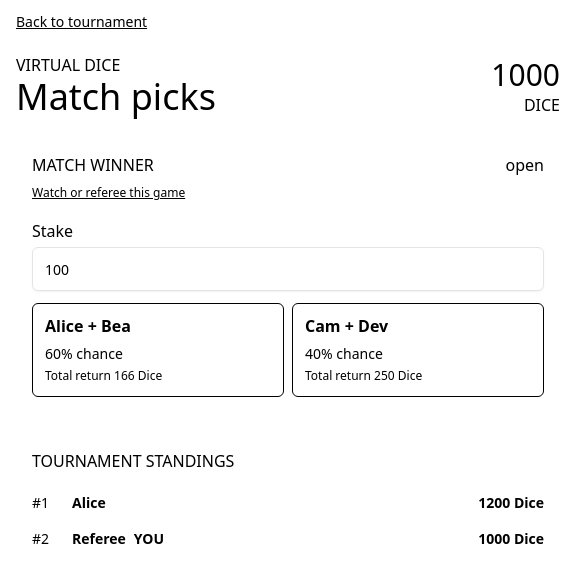
Test: VirtualDice › shows bankroll and locked server odds, then places one clear pick
Expected: the text "1000" is shown, [491,57,560,93]
Expected: the text "60% chance" is shown, [45,344,123,363]
Replace the text in the field labelled "Stake" with "250". click: (288, 269)
box: [32,247,544,291]
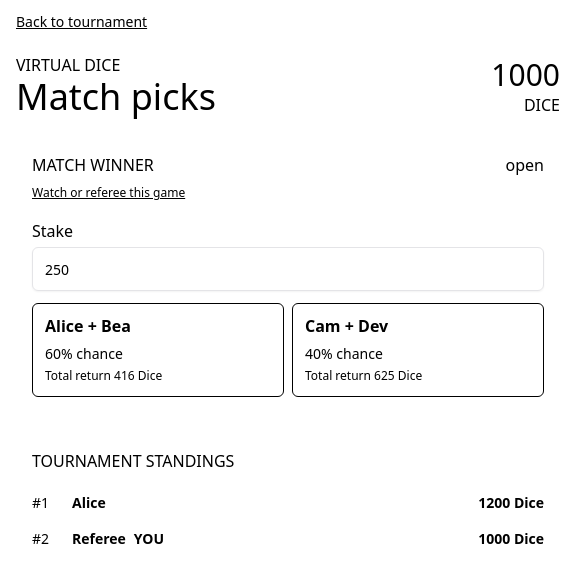
Click the button "Alice + Bea 60% chance Total return 416 Dice". click: (158, 350)
box: [32,303,284,397]
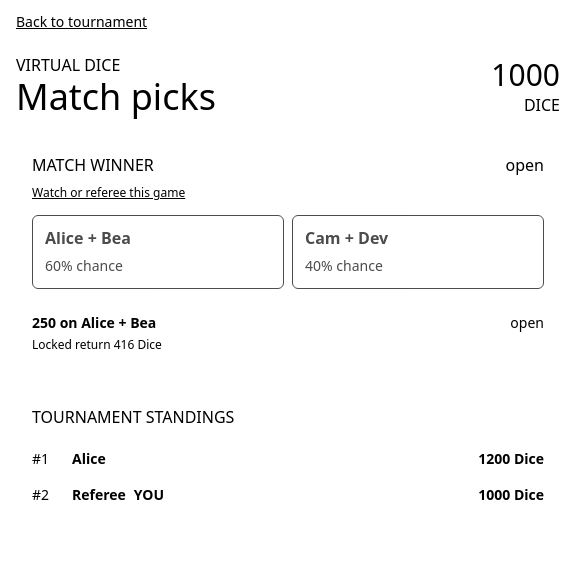
Result: the text "250 on Alice + Bea" is shown at [32,313,156,333]
Result: the label labelled "Stake" is gone
